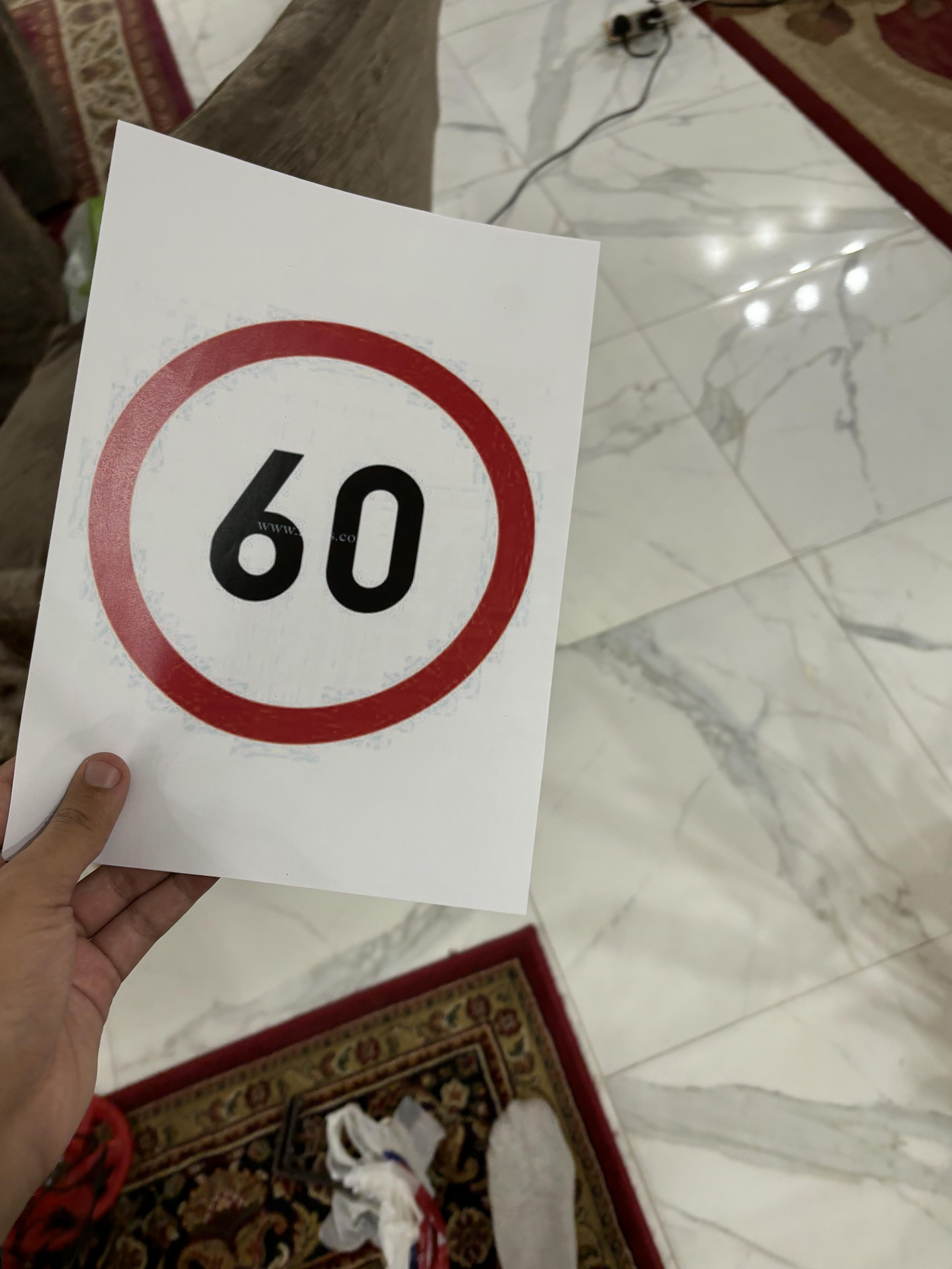60-Speed: (89, 309, 539, 744)
